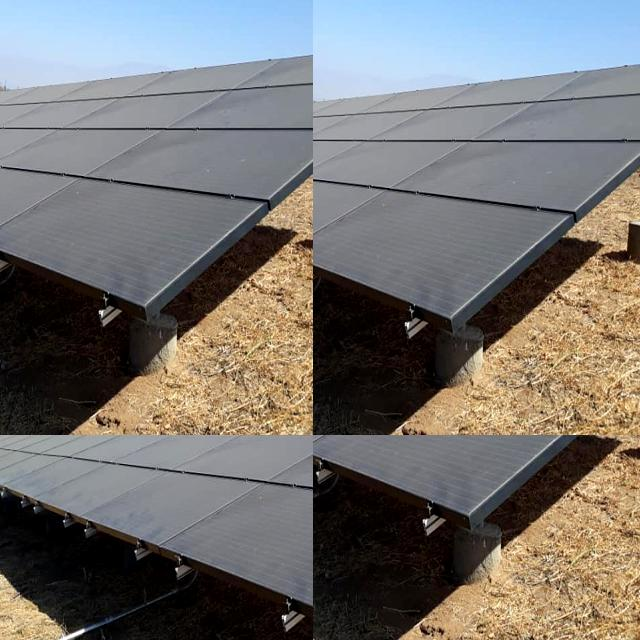crack: (0, 176, 129, 326), (121, 314, 240, 435), (190, 165, 313, 262), (0, 303, 63, 435), (0, 364, 116, 435), (0, 334, 65, 435), (0, 178, 48, 303), (0, 0, 52, 90)
dust: (342, 435, 537, 469), (373, 435, 537, 458), (478, 435, 615, 456), (313, 435, 380, 467), (549, 435, 640, 454), (313, 435, 384, 456), (351, 435, 426, 453)
panel: (0, 484, 82, 601), (16, 435, 165, 472), (0, 435, 94, 477), (120, 435, 241, 465), (0, 435, 46, 466)
shadow: (313, 0, 337, 61)
